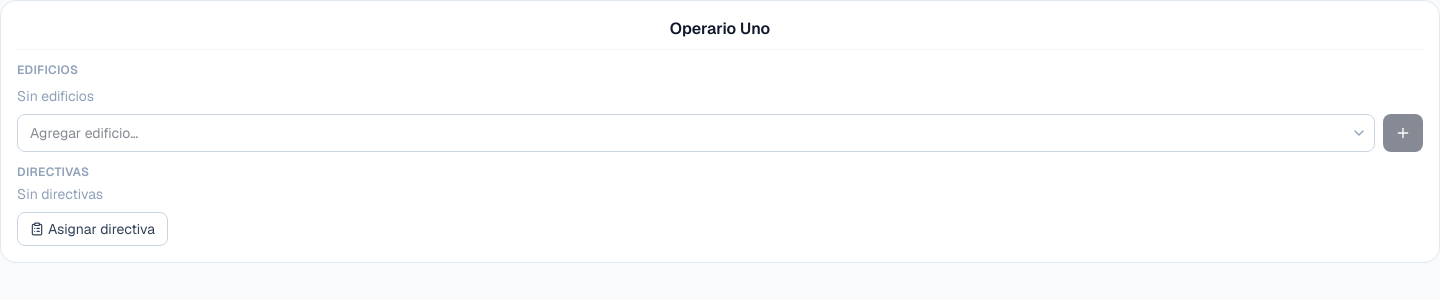
Test case: IntegranteCard › admin: el dropdown ofrece los edificios sin asignar y muestra el error si la asignación falla
Click the dropdown named "Edificio a agregar" at (696, 133), box [17,114,1375,152]
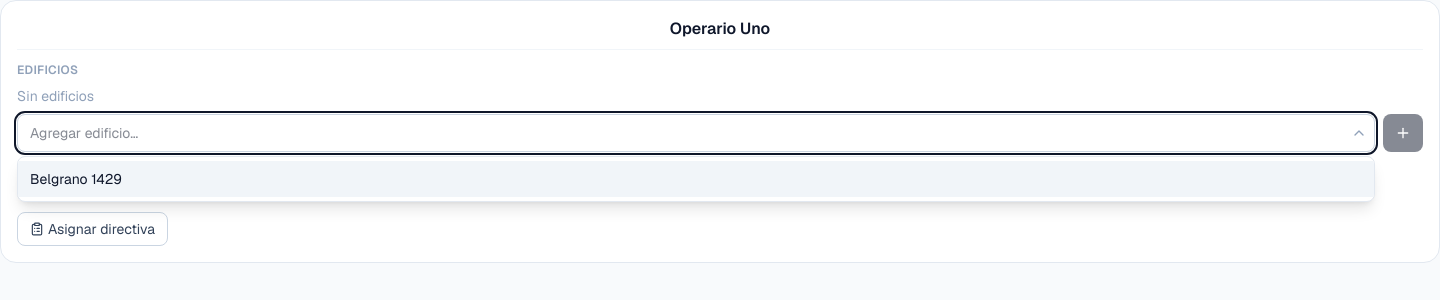
Click the option "Belgrano 1429" at (76, 179), box [18,161,1374,197]
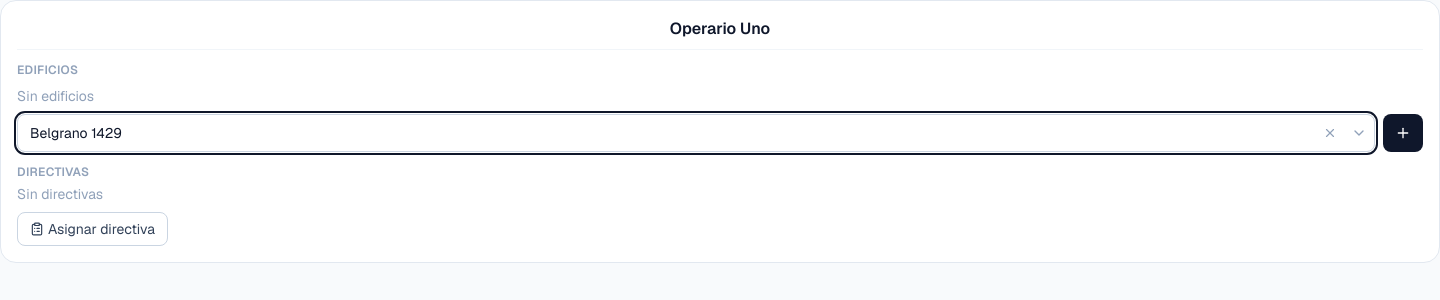
Click the button named "Agregar edificio" at (1403, 133), box [1383,114,1423,152]
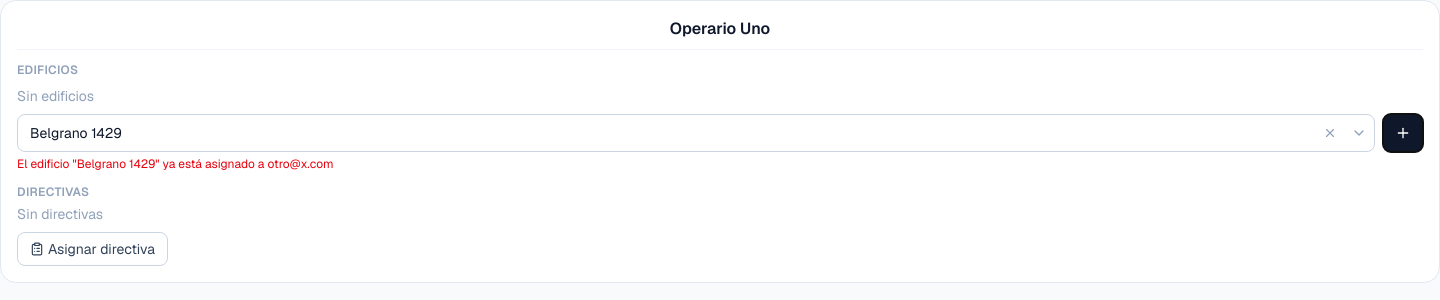
Expected: the text "El edificio \"Belgrano 1429\" ya está asignado a otro@x.com" is shown, [17,156,334,172]
